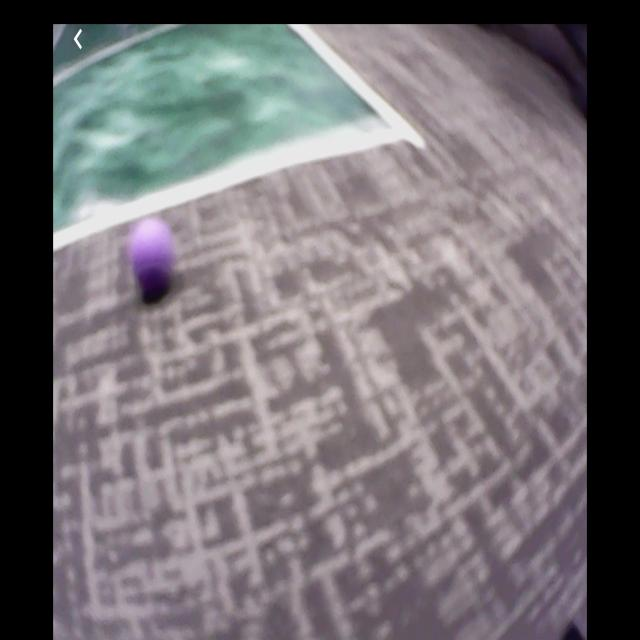ball: (131, 219, 176, 289)
